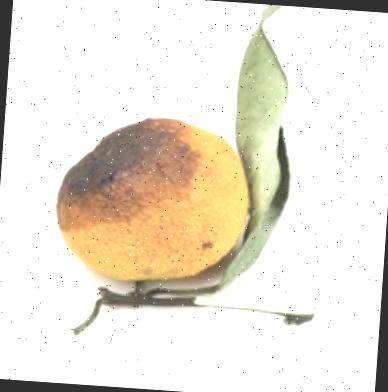Orange Rotten: (36, 94, 265, 317)
